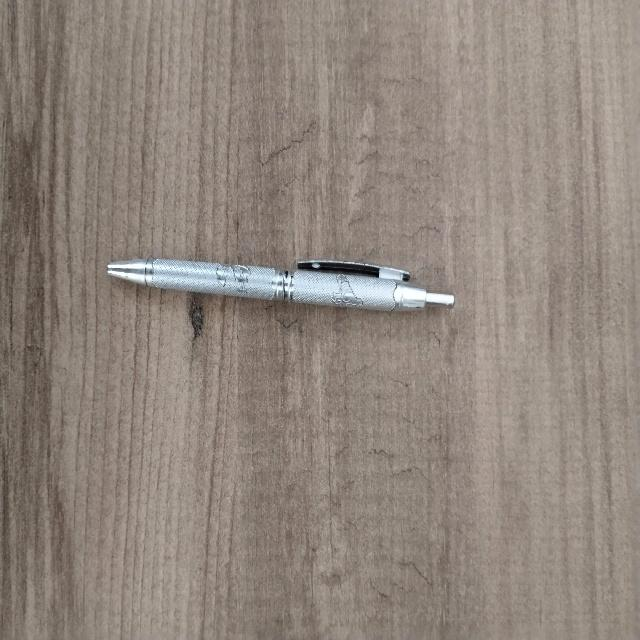signature pen: (108, 259, 454, 310)
